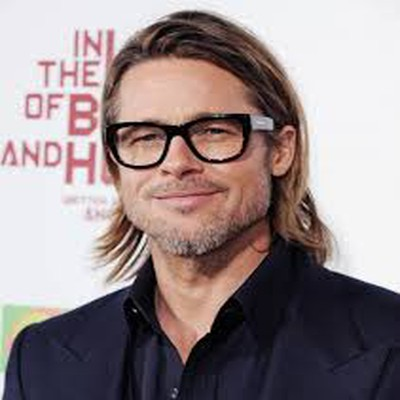eywear: (86, 113, 310, 185)
